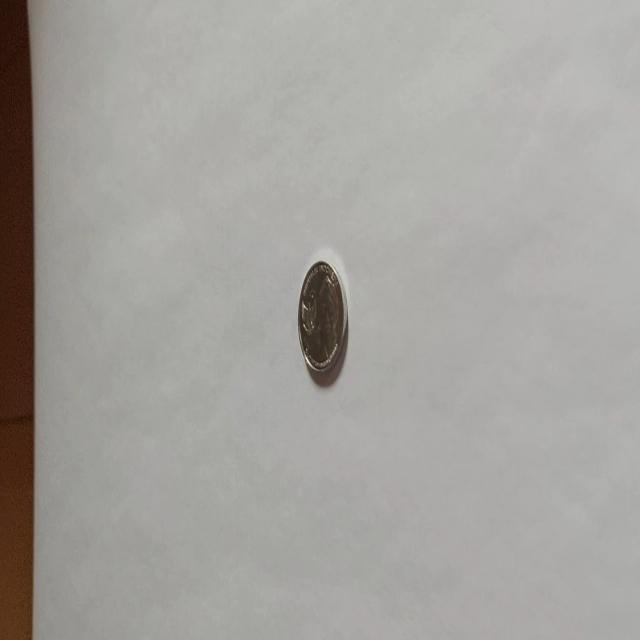dua ratus rupiah: (296, 258, 348, 377)
